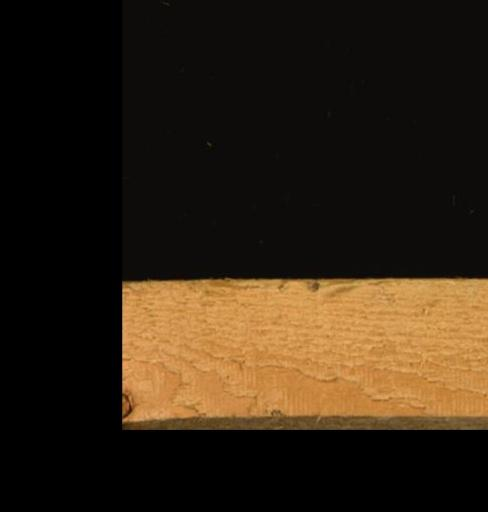dry_knot: (122, 389, 132, 419)
